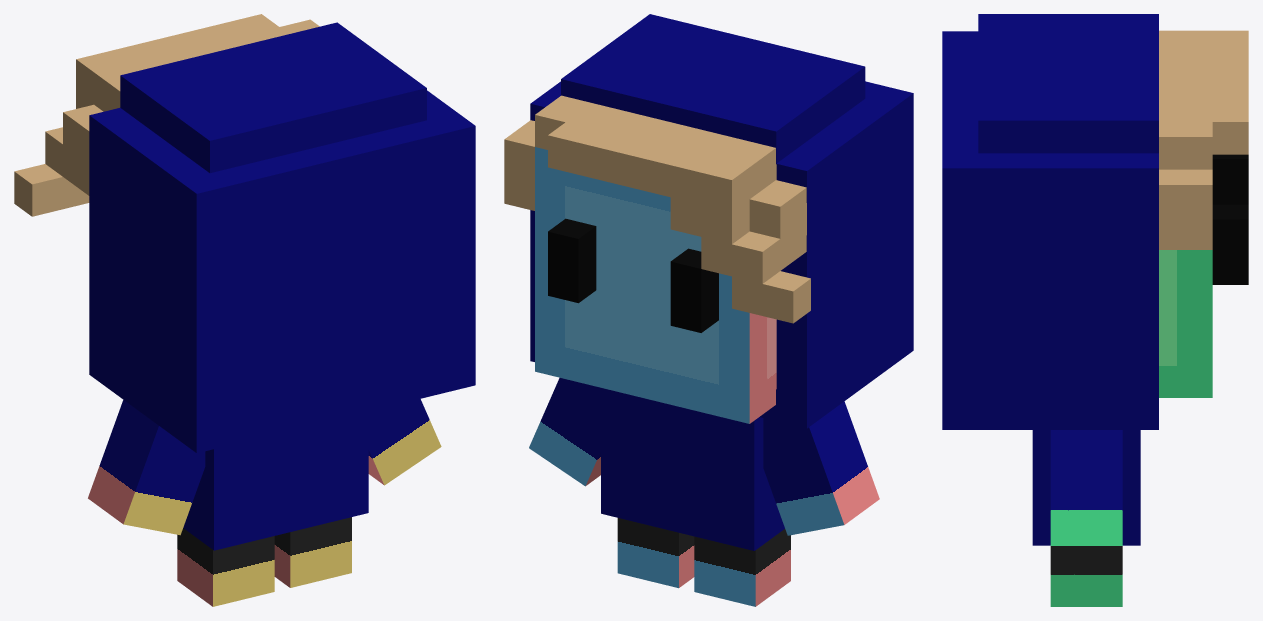
Rendered from wizard.gltf.
The picture shows the model from 3 angles, left to right: view 1: azimuth 30°, elevation 25°; view 2: azimuth 150°, elevation 25°; view 3: azimuth 270°, elevation 25°; orthographic projection.
Visible parts, largest first — view 1: cube (×2), torso, armL, shirt, legL, armR, legR, hairT1, hairF4, hairF1, hairL1, hairF2 (+1 smaller); view 2: cube (×2), head, torso, armL, hairT1, hairF2, hairF1, shirt, legL, armR, legR, eyeR (+5 smaller); view 3: cube (×2), armR, head, hairT1, legR, hairR1, hairF1, torso, eyeR, eyeL, shirt, hairF2.
Part boxes in pixels (x1=…): cube (×2): x1=89, y1=22, x2=475, y2=453; torso: x1=192, y1=411, x2=368, y2=518; armL: x1=88, y1=400, x2=205, y2=535; shirt: x1=183, y1=480, x2=368, y2=550; legL: x1=177, y1=528, x2=274, y2=606; armR: x1=368, y1=399, x2=441, y2=485; legR: x1=274, y1=517, x2=351, y2=587; hairT1: x1=94, y1=19, x2=319, y2=111; hairF4: x1=14, y1=164, x2=89, y2=216; hairF1: x1=138, y1=14, x2=278, y2=56; hairL1: x1=63, y1=104, x2=103, y2=195; hairF2: x1=76, y1=44, x2=155, y2=108; cube (×2): x1=530, y1=14, x2=913, y2=428; head: x1=535, y1=147, x2=776, y2=423; torso: x1=601, y1=388, x2=775, y2=518; armL: x1=763, y1=401, x2=879, y2=535; hairT1: x1=535, y1=95, x2=776, y2=198; hairF2: x1=670, y1=152, x2=749, y2=244; hairF1: x1=548, y1=122, x2=687, y2=197; shirt: x1=601, y1=481, x2=784, y2=550; legL: x1=694, y1=529, x2=790, y2=606; armR: x1=529, y1=378, x2=600, y2=486; legR: x1=617, y1=518, x2=694, y2=588; eyeR: x1=548, y1=218, x2=596, y2=303; cube (×2): x1=942, y1=14, x2=1158, y2=429; armR: x1=1050, y1=430, x2=1122, y2=545; head: x1=1159, y1=250, x2=1212, y2=397; hairT1: x1=1159, y1=30, x2=1212, y2=169; legR: x1=1050, y1=546, x2=1122, y2=606; hairR1: x1=1159, y1=169, x2=1212, y2=249; hairF1: x1=1212, y1=61, x2=1248, y2=154; torso: x1=1032, y1=430, x2=1140, y2=512; eyeR: x1=1212, y1=204, x2=1248, y2=284; eyeL: x1=1212, y1=154, x2=1248, y2=204; shirt: x1=1032, y1=513, x2=1140, y2=545; hairF2: x1=1212, y1=30, x2=1248, y2=60.
Bounding box in the file's own units: 0.6654 × 0.9694 × 0.5319.
Materials: 1 (1 with a texture image).
